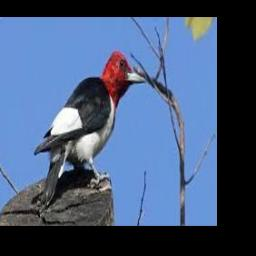Woodpecker: (34, 51, 146, 205)
